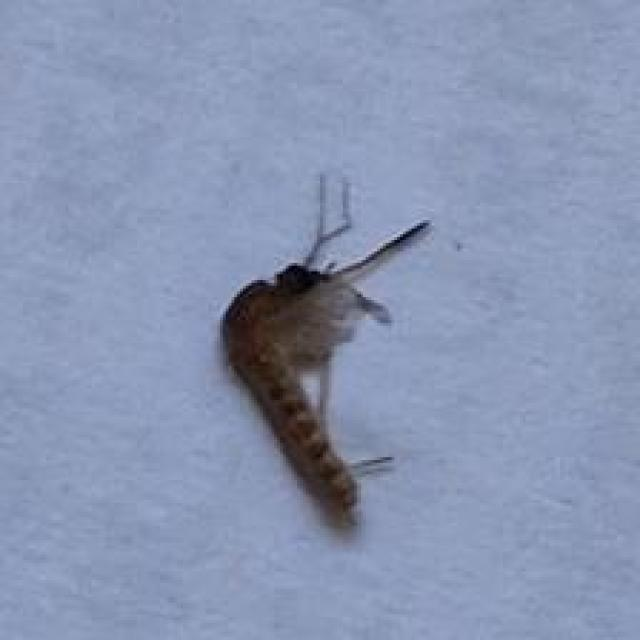Culex: (217, 172, 434, 528)
